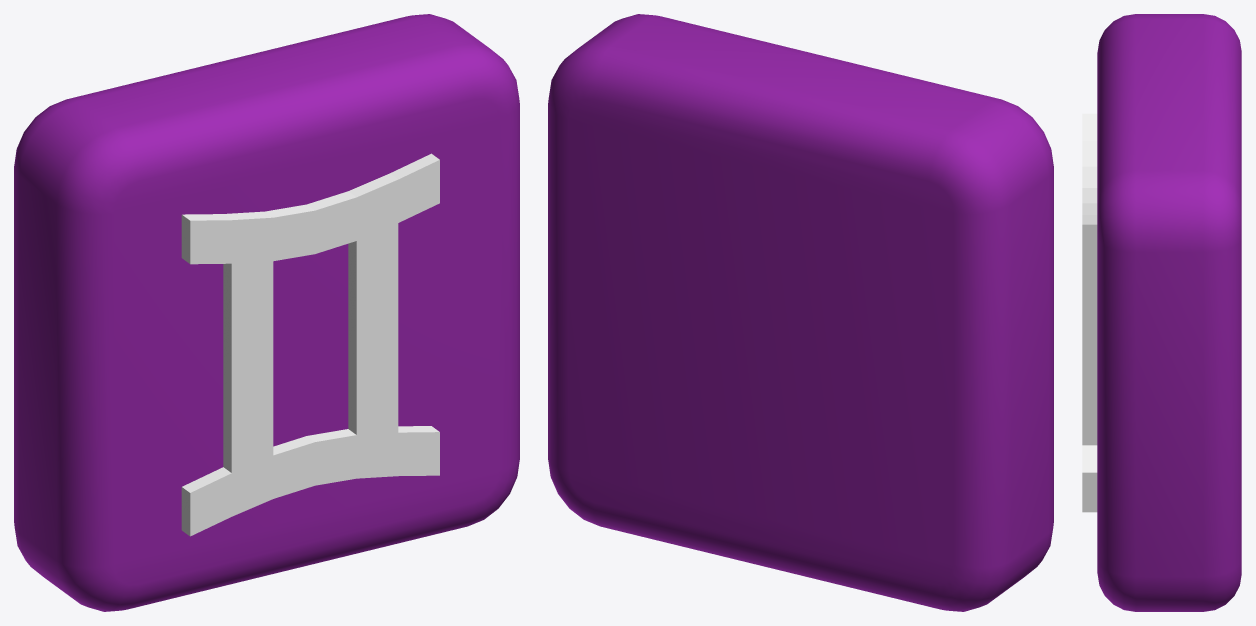
File: gemini.glb
The picture shows the model from 3 angles, left to right: view 1: azimuth 30°, elevation 25°; view 2: azimuth 150°, elevation 25°; view 3: azimuth 270°, elevation 25°; orthographic projection. The views are drawn at different scales.
Parts seen in each view (by area): view 1: Cube.6401; view 2: Cube.6401; view 3: Cube.6401.
Part boxes in pixels (x1=…): Cube.6401: x1=14, y1=14, x2=519, y2=611; Cube.6401: x1=548, y1=14, x2=1053, y2=611; Cube.6401: x1=1082, y1=14, x2=1241, y2=611.
Size of the model in its own units: 2.2 by 2.2 by 0.73.
1 material, 1 textured.
